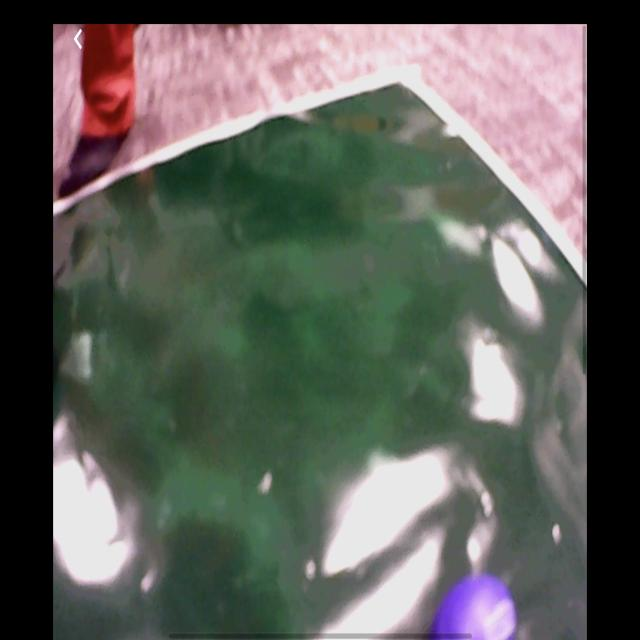ball: (432, 571, 521, 639)
